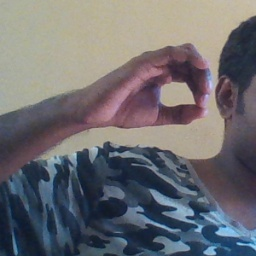O: (80, 38, 215, 134)
